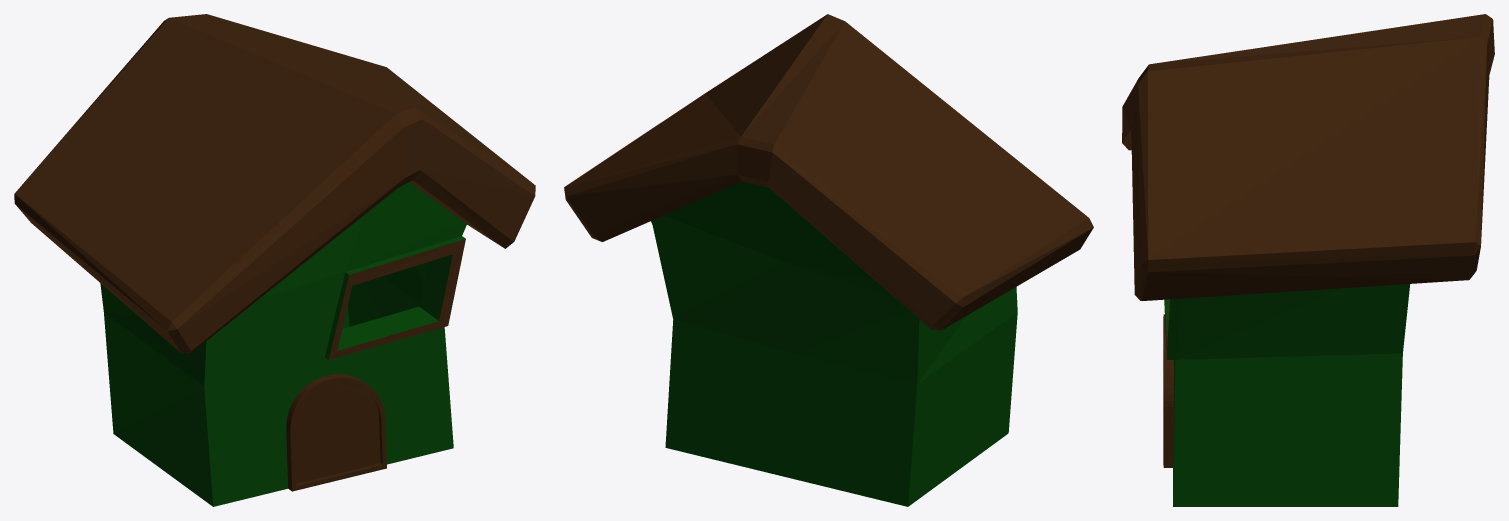
Rendered from House.glb.
3 renders of one model, left to right at view 1: azimuth 30°, elevation 25°; view 2: azimuth 150°, elevation 25°; view 3: azimuth 270°, elevation 25°, orthographic. The views are drawn at different scales.
Visible parts, largest first — view 1: Cube.002; view 2: Cube.002; view 3: Cube.002.
Part boxes in pixels (x1,y1,x2,y2): Cube.002: [14, 14, 535, 506]; Cube.002: [564, 14, 1093, 506]; Cube.002: [1122, 14, 1494, 506].
Bounding box in the file's own units: 15.28 × 13.72 × 11.25.
